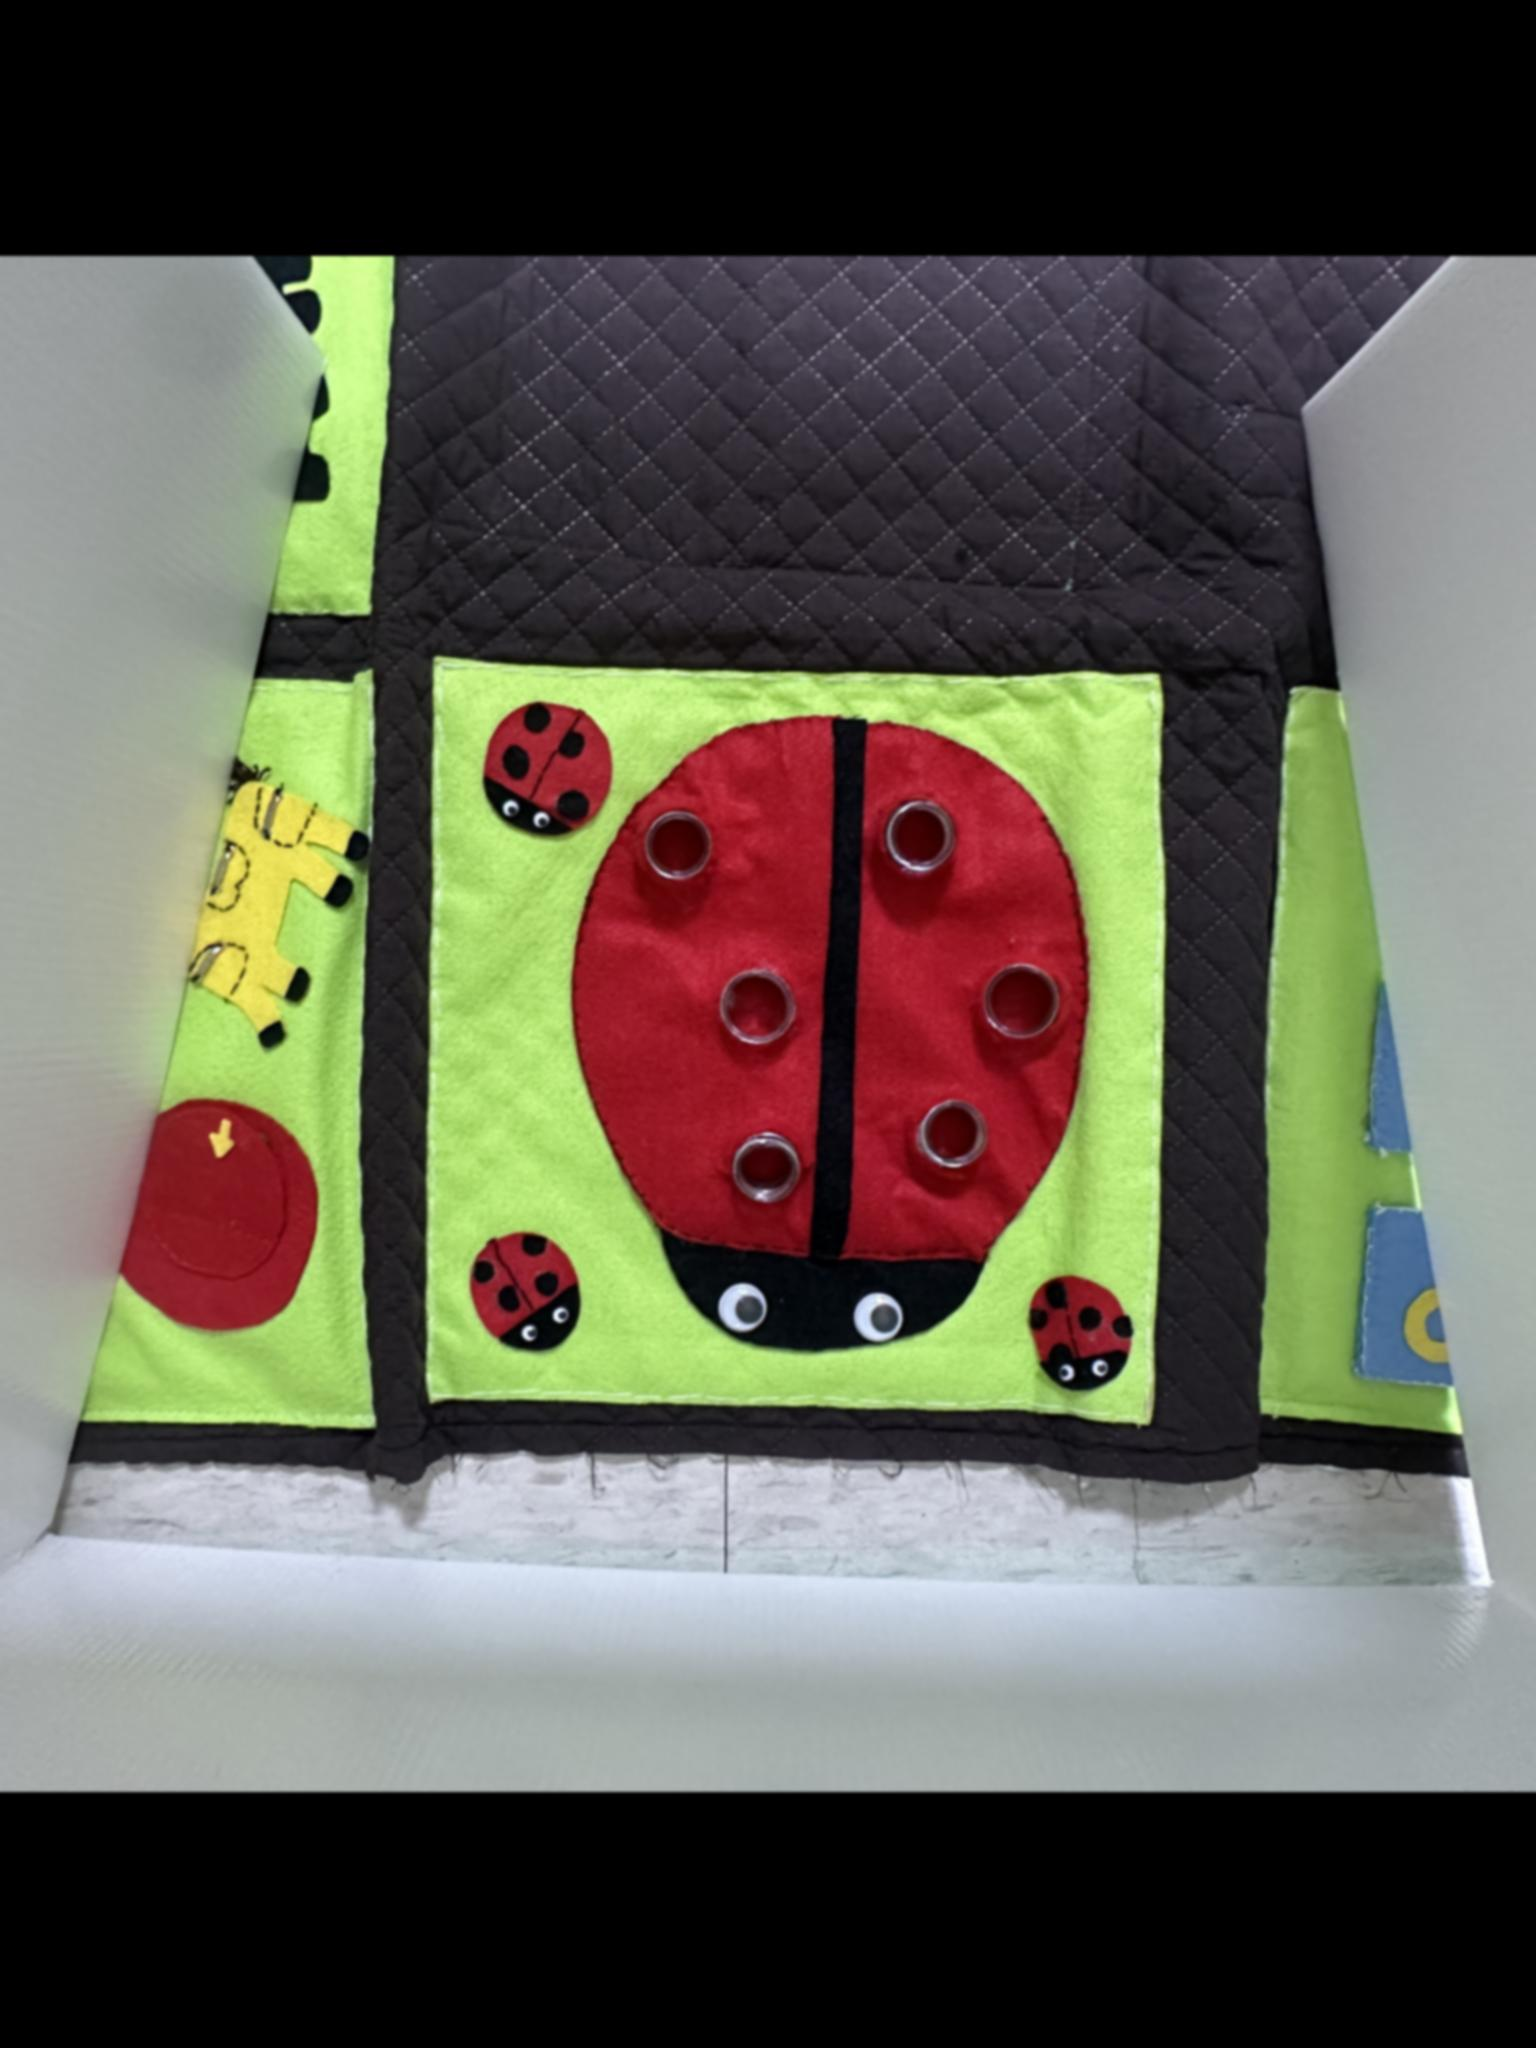hole: (878, 798, 957, 880), (721, 972, 795, 1047), (984, 969, 1057, 1042), (731, 1138, 800, 1205), (645, 811, 712, 879), (921, 1103, 986, 1169)
ladybug_case: (576, 693, 1096, 1361)
